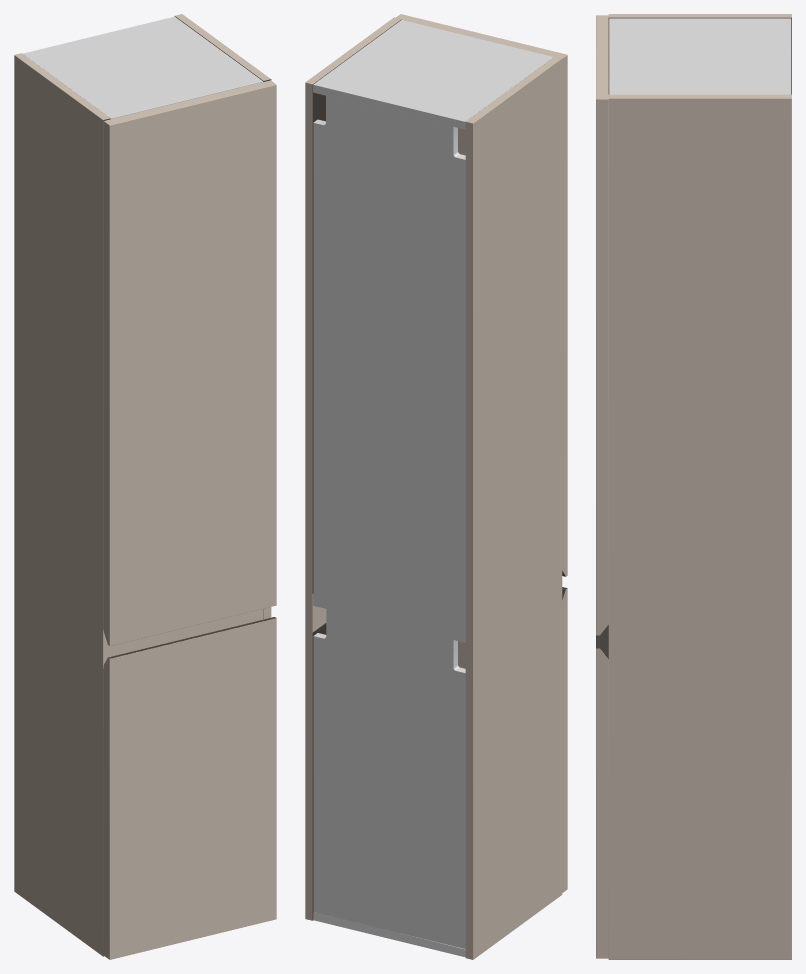
3 views of the same model, side by side, from view 1: azimuth 30°, elevation 25°; view 2: azimuth 150°, elevation 25°; view 3: azimuth 270°, elevation 25° (orthographic). The views are drawn at different scales.
Visible parts, largest first — view 1: VX11; view 2: VX11; view 3: VX11.
Part boxes in pixels (x1,y1,x2,y2): VX11: [14, 14, 276, 959]; VX11: [305, 14, 567, 959]; VX11: [596, 14, 791, 959].
Bounding box in the file's own units: 0.35 × 1.66 × 0.343.
